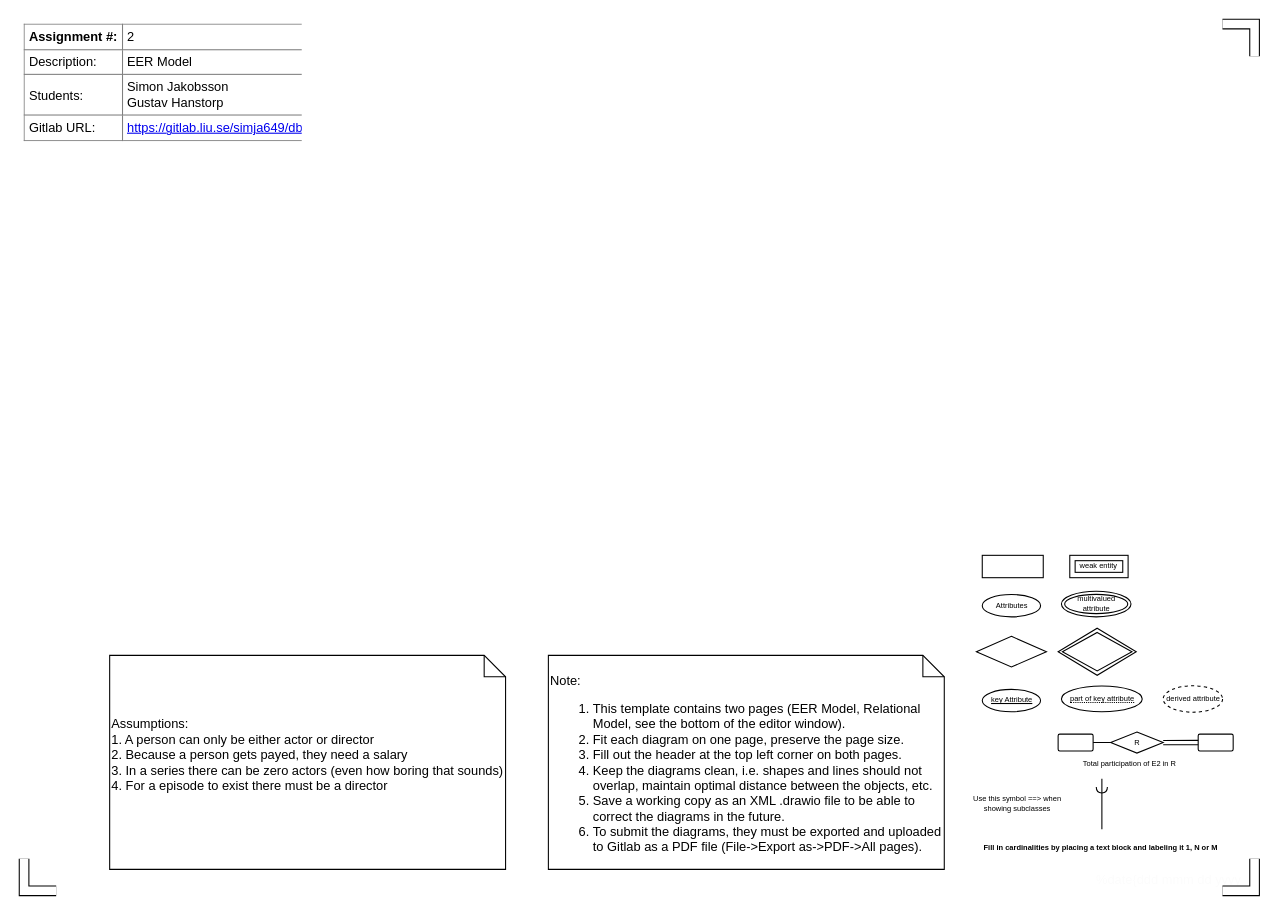
The diagram is 1279 pixels wide and 919 high, and some of its shapes have lost their labels. The shapes that lost their labels are listed below. From the top down, each one's centre as x and y in pixels, then its label:
the point at 1012,566: Entity
the point at 1010,651: Relationship
the point at 1096,651: identifying relationship
the point at 1075,742: E1
the point at 1215,742: E2
